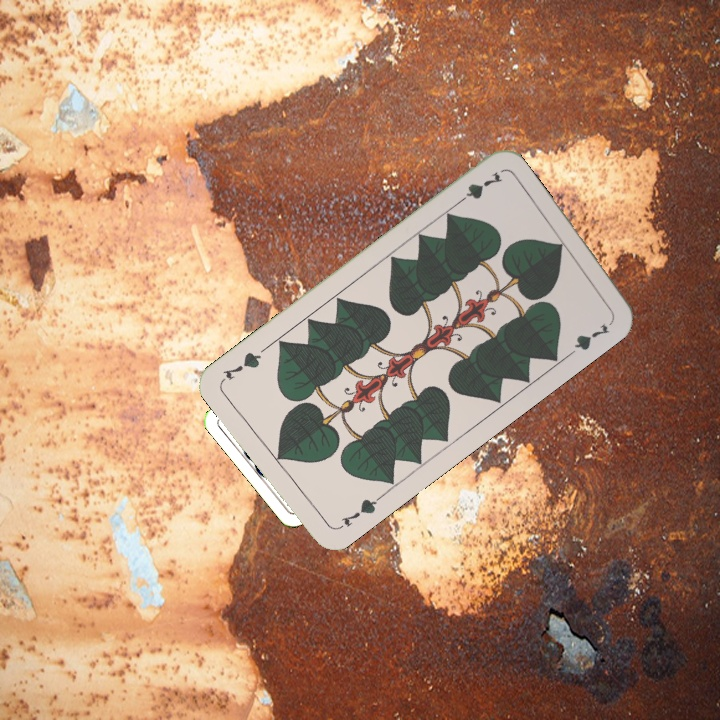G7: (451, 167, 505, 209), (332, 492, 384, 533)
